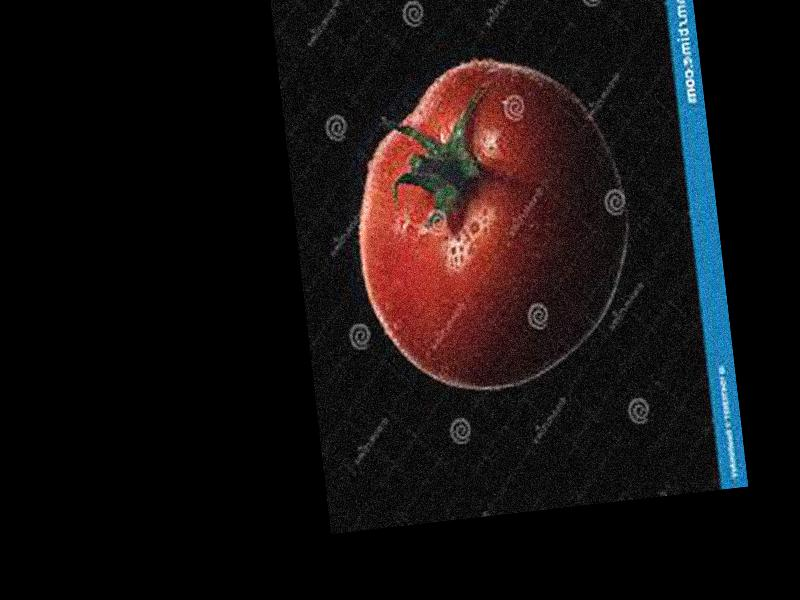Tomato: (339, 45, 643, 404)
